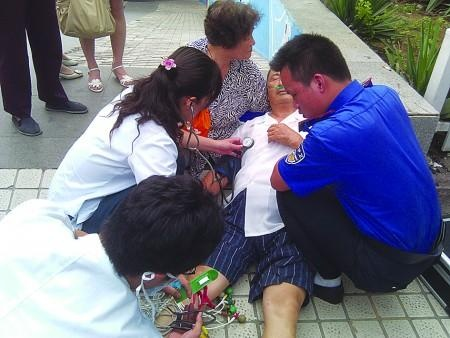falling: (182, 47, 320, 332)
